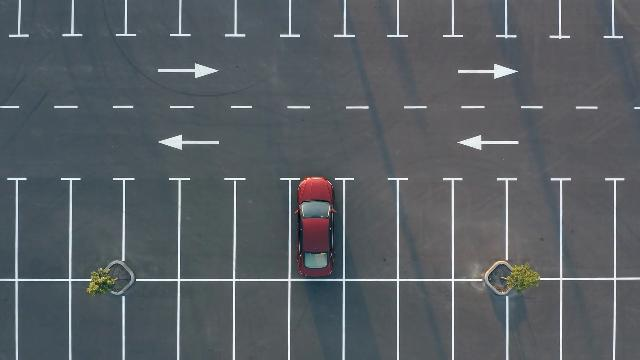Empty: (234, 180, 292, 280), (179, 179, 235, 281), (124, 180, 180, 280), (400, 179, 454, 281), (72, 178, 124, 282), (507, 182, 563, 276), (563, 180, 615, 279), (20, 180, 70, 280), (346, 181, 396, 281), (456, 180, 506, 279), (509, 276, 563, 360), (290, 280, 346, 360), (397, 280, 453, 360), (454, 278, 508, 360), (16, 280, 70, 360), (180, 282, 234, 360), (236, 282, 290, 360), (563, 280, 617, 358), (346, 280, 398, 360), (125, 282, 178, 360), (73, 282, 124, 360)
Filled: (290, 178, 344, 278)
